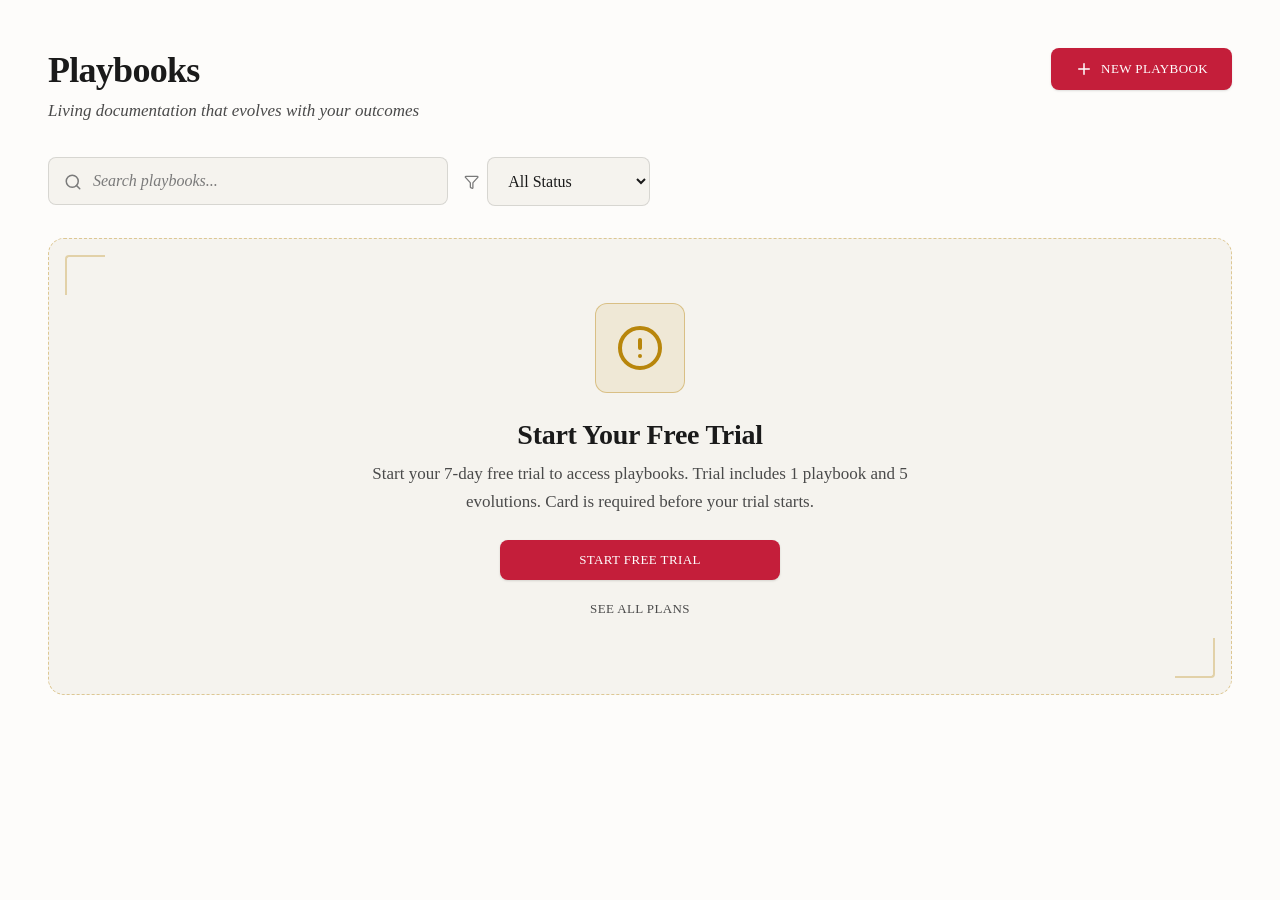
Test: Dashboard › shows an error when trial checkout initiation fails
This screenshot has width=1280, height=900.
Click the button "Start Free Trial" at (640, 560), box [500,540,780,580]
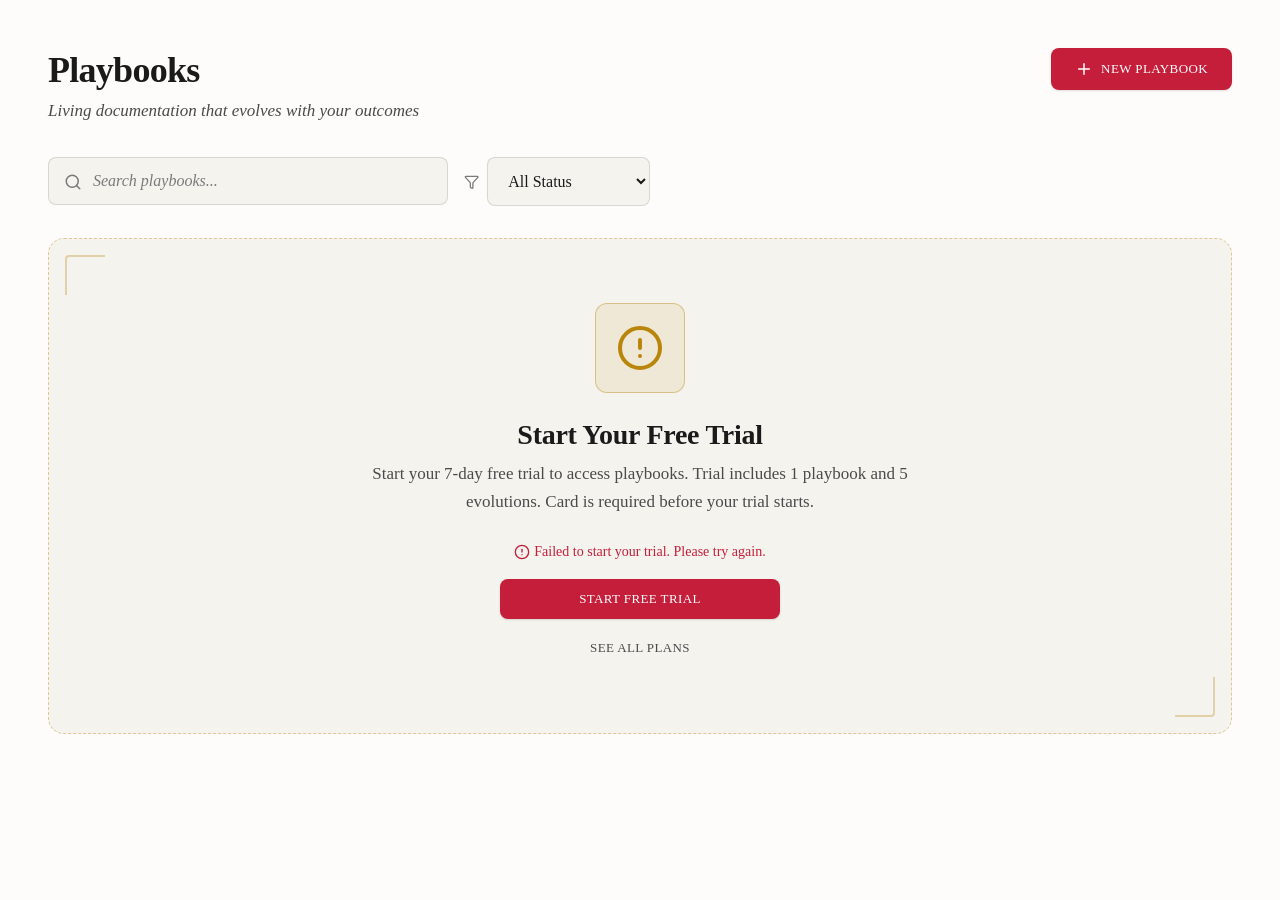
Expected: the text "Failed to start your trial. Please try again." is shown, [534,540,766,563]
